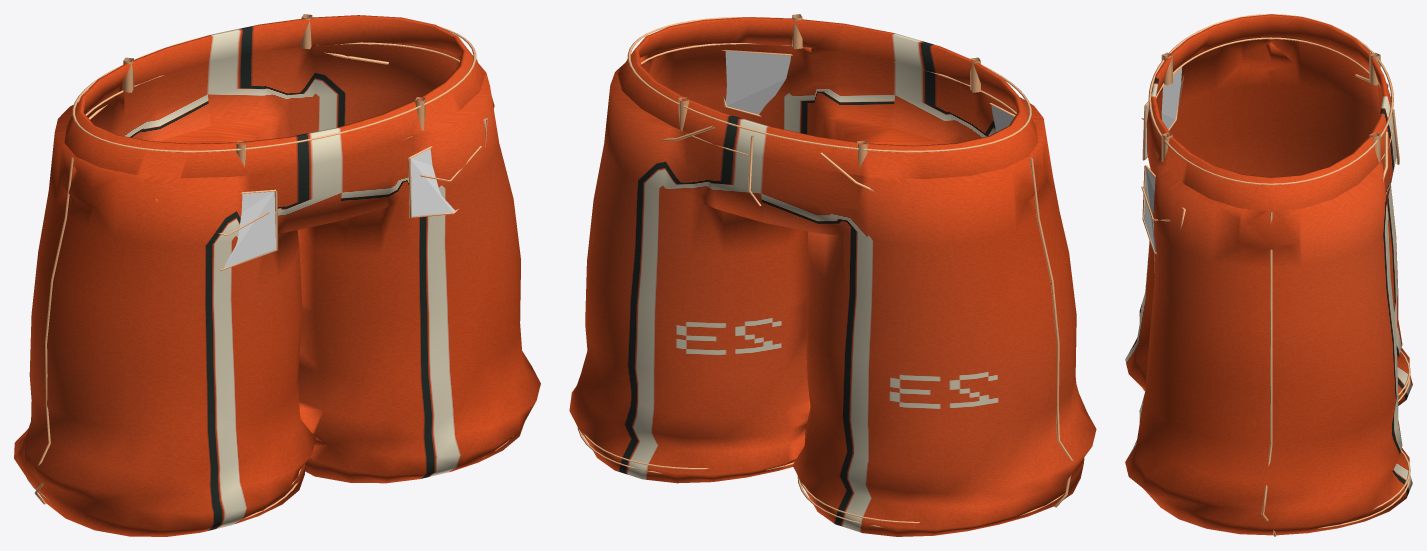
Rendered from CG_BOTTOM_02.fbx.
3 views of the same model, side by side, from view 1: azimuth 30°, elevation 25°; view 2: azimuth 150°, elevation 25°; view 3: azimuth 270°, elevation 25° (orthographic). The views are drawn at different scales.
Visible parts, largest first — view 1: Corpo da jeans.003, Bolso traseiro -1.003, Bolso traseiro 1.003, Pesponto do cós.007, Costura lateral -1.003; view 2: Corpo da jeans.003, Bolso traseiro 1.003, Pesponto do cós.007, Costura lateral -1.003, Pesponto do cós.006; view 3: Corpo da jeans.003, Pesponto do cós.007, Bolso traseiro -1.003, Costura lateral 1.003, Bolso traseiro 1.003, Pesponto do cós.006, Pesponto traseiro -1.003.
Boxes of the visible parts, x1,y1,x2,y2 form: Corpo da jeans.003: [14, 15, 540, 536]; Bolso traseiro -1.003: [224, 191, 275, 267]; Bolso traseiro 1.003: [410, 120, 485, 216]; Pesponto do cós.007: [72, 26, 476, 152]; Costura lateral -1.003: [34, 157, 73, 504]; Corpo da jeans.003: [569, 17, 1096, 536]; Bolso traseiro 1.003: [725, 51, 790, 114]; Pesponto do cós.007: [627, 17, 1031, 152]; Costura lateral -1.003: [1030, 157, 1073, 507]; Pesponto do cós.006: [641, 43, 1016, 163]; Corpo da jeans.003: [1125, 14, 1412, 535]; Pesponto do cós.007: [1148, 14, 1393, 185]; Bolso traseiro -1.003: [1145, 67, 1182, 157]; Costura lateral 1.003: [1261, 212, 1276, 536]; Bolso traseiro 1.003: [1144, 168, 1156, 251]; Pesponto do cós.006: [1155, 37, 1393, 159]; Pesponto traseiro -1.003: [1142, 66, 1183, 160].
Size of the model in its own units: 108 by 79.86 by 60.95.
Materials: 3 (1 with a texture image).
